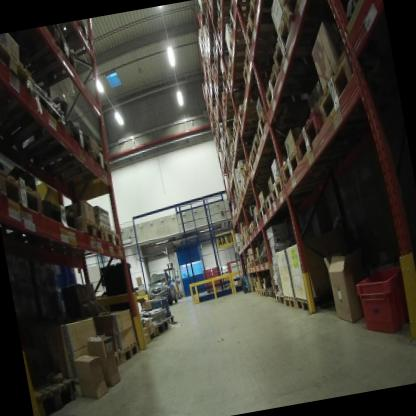forklift: (162, 256, 183, 303)
pallet: (264, 0, 338, 84), (0, 79, 76, 145), (5, 125, 101, 177), (19, 21, 88, 84), (312, 48, 364, 128), (258, 53, 320, 113), (0, 158, 46, 234), (27, 360, 82, 416), (0, 30, 41, 103), (227, 111, 259, 201), (29, 155, 109, 191), (288, 95, 326, 165), (222, 25, 275, 69), (247, 126, 305, 165), (42, 190, 80, 243), (292, 283, 341, 318), (222, 58, 268, 95), (253, 104, 293, 143), (233, 93, 268, 137), (210, 15, 248, 54), (224, 0, 265, 35), (233, 0, 261, 47), (246, 148, 287, 179), (68, 211, 103, 247), (282, 0, 338, 21), (272, 140, 302, 179), (69, 20, 98, 60), (233, 41, 258, 85), (97, 217, 126, 253), (218, 86, 254, 112), (116, 339, 140, 368), (104, 340, 126, 369), (213, 0, 242, 21), (267, 174, 285, 205), (282, 289, 301, 312), (151, 319, 173, 338), (241, 159, 255, 187), (217, 69, 230, 96), (204, 0, 221, 19), (256, 199, 269, 221), (260, 190, 274, 210), (253, 0, 281, 10), (260, 249, 277, 264), (273, 289, 287, 307), (266, 282, 278, 300), (163, 312, 178, 325), (269, 284, 280, 301), (247, 219, 258, 234), (249, 257, 256, 273), (261, 285, 268, 300), (256, 285, 263, 299), (253, 255, 259, 269), (256, 254, 262, 267)
pallet_truck: (237, 249, 258, 295), (232, 249, 243, 289)
small_load_carrier: (342, 252, 415, 333)
